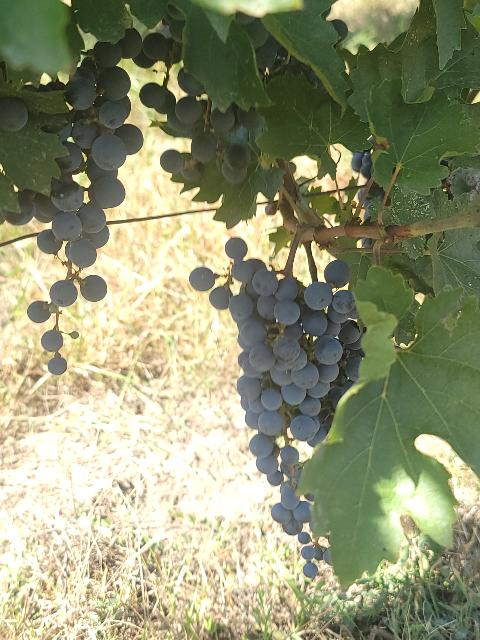grapes: (210, 238, 362, 578), (5, 28, 142, 375)
